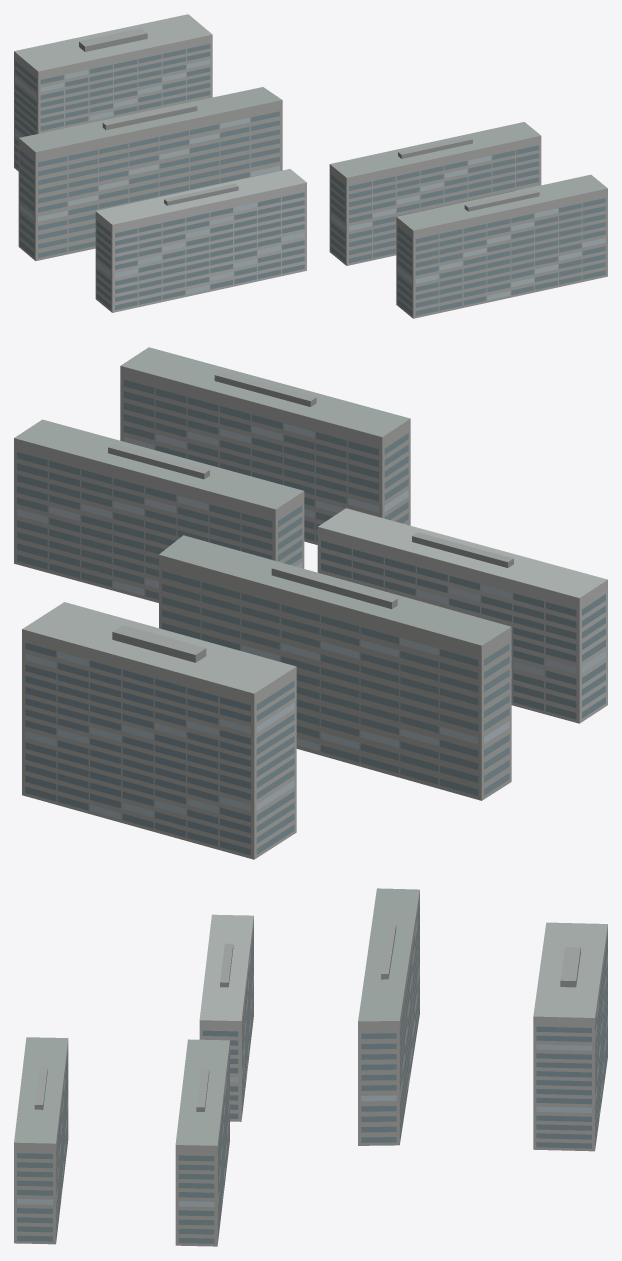
Rendered from apt-a13986004.glb.
3 views of the same model, one above another, from view 1: azimuth 30°, elevation 25°; view 2: azimuth 150°, elevation 25°; view 3: azimuth 270°, elevation 25° (orthographic). The views are drawn at different scales.
Parts seen in each view (by area): view 1: apt-a13986004; view 2: apt-a13986004; view 3: apt-a13986004.
Boxes of the visible parts, x1,y1,x2,y2 form: apt-a13986004: [14, 14, 607, 318]; apt-a13986004: [14, 347, 607, 859]; apt-a13986004: [14, 888, 607, 1246].
Size of the model in its own units: 147 by 41 by 158.
